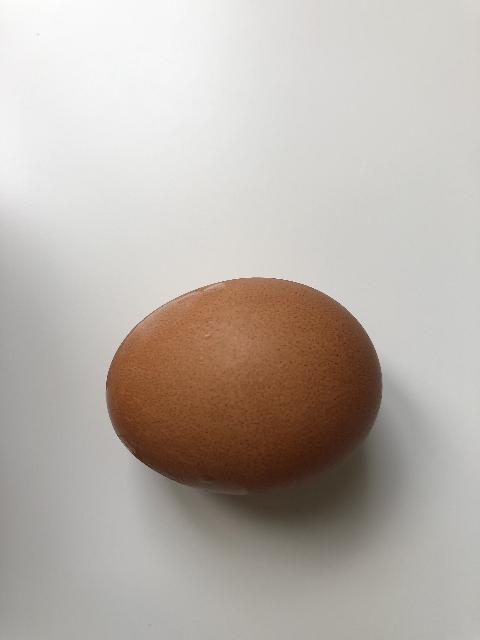Sano: (104, 275, 384, 497)
